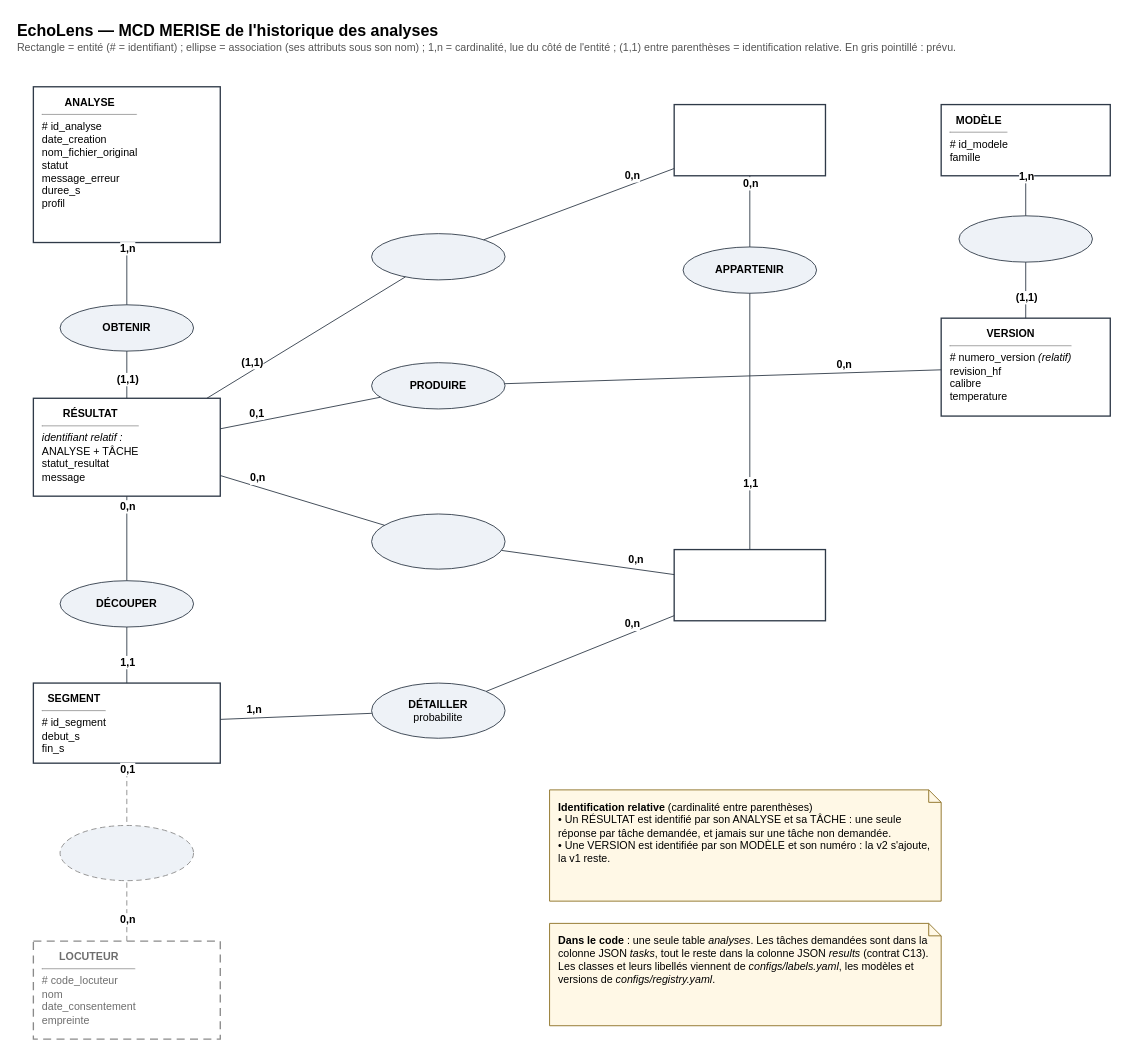
Some shapes in this 1143 by 1055 pixel diagram are drawn without their labels. The shapes that lost their labels are listed below. From the top down, each one's box as (x1, y1, x2, y2) in pixels, then its label:
(673, 104, 826, 176): TÂCHE # code_tache libelle
(371, 233, 505, 280): PORTER SUR
(958, 215, 1092, 262): AVOIR
(371, 513, 505, 569): ESTIMER probabilite
(673, 549, 826, 621): CLASSE # code_classe libelle_fr
(59, 825, 194, 881): IDENTIFIER similarite
